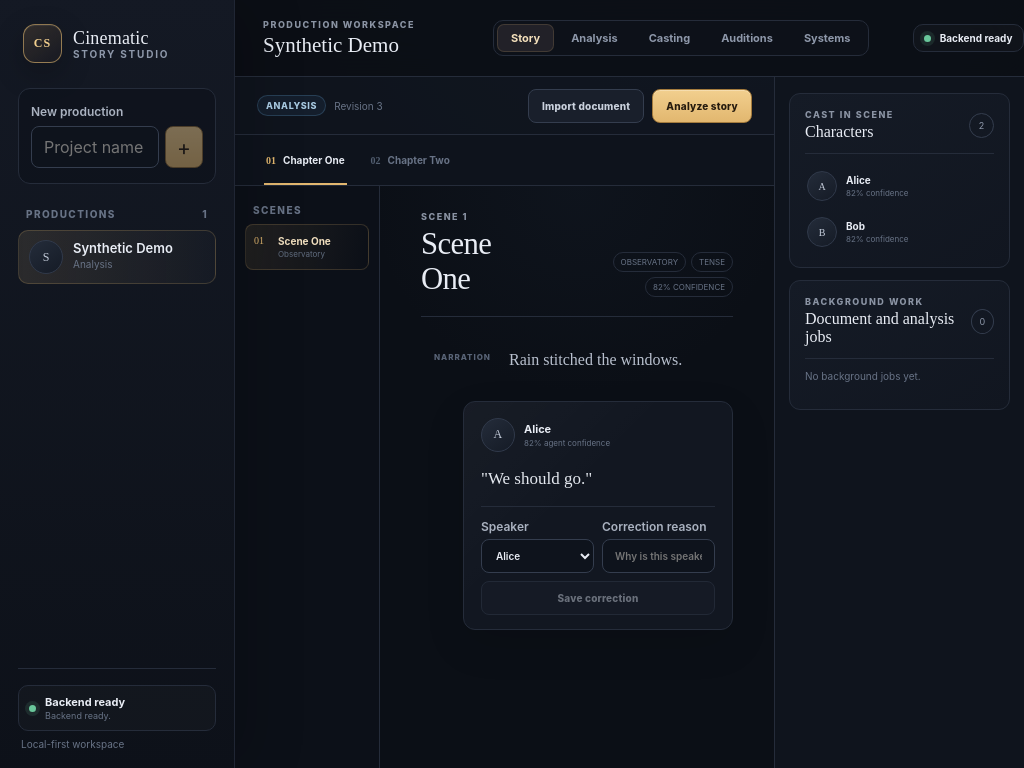
Scenario: Phase 0 desktop workspace › mounts the governed casting workspace without falling back to placeholders
Expected: the text "\"We should go.\"" is shown, [481, 469, 592, 488]
What coordinates should you click on to do the following:
click the button "Casting"
I would click on:
 (669, 38)
Its box is [635, 24, 704, 52].
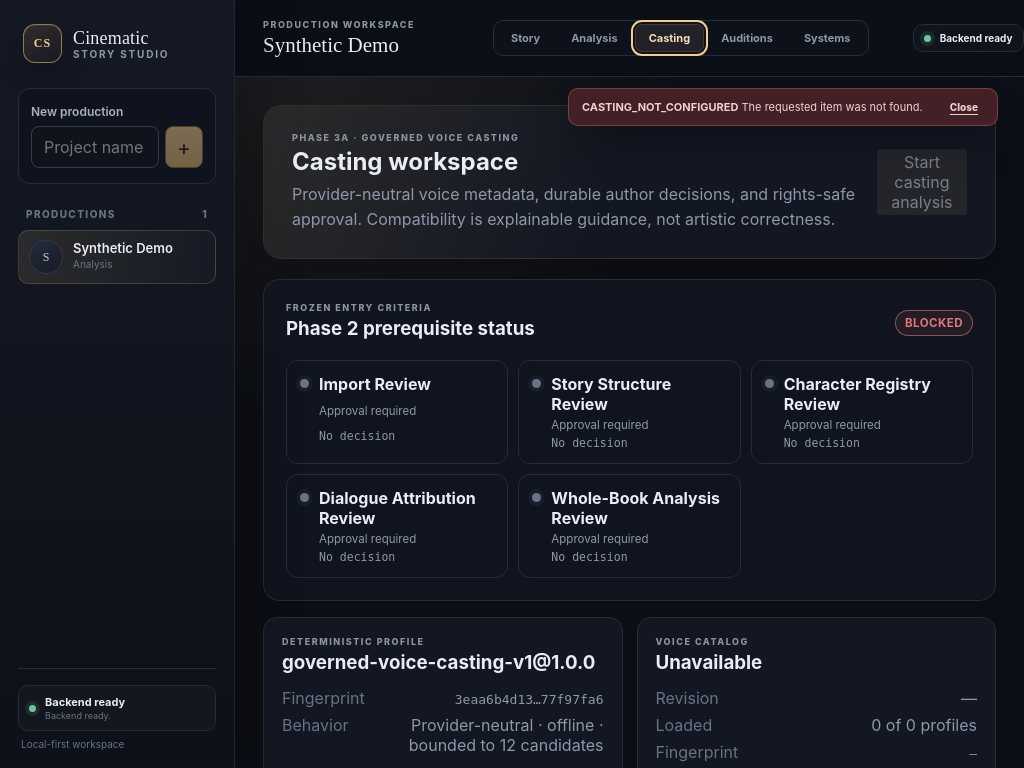
Result: the heading "Casting workspace" is shown at [292, 147, 518, 176]
Result: the heading "Phase 2 prerequisite status" is shown at [286, 317, 535, 340]
Result: the heading "governed-voice-casting-v1@1.0.0" is shown at [282, 651, 604, 674]
